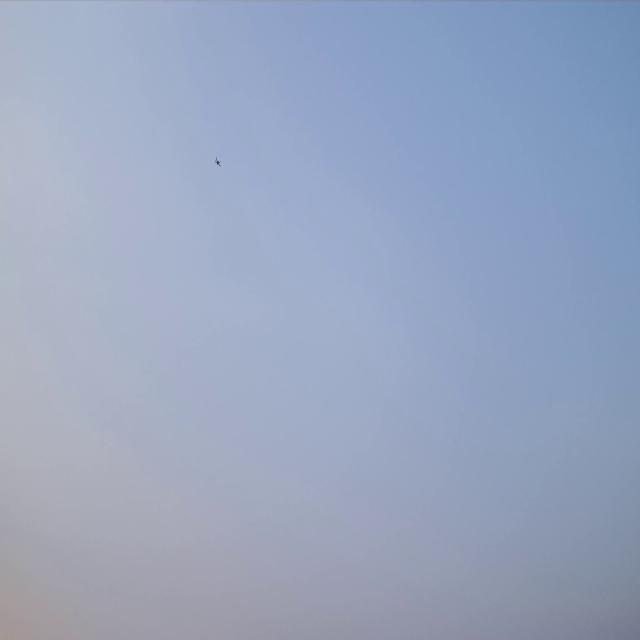UAV: (214, 156, 222, 168)
